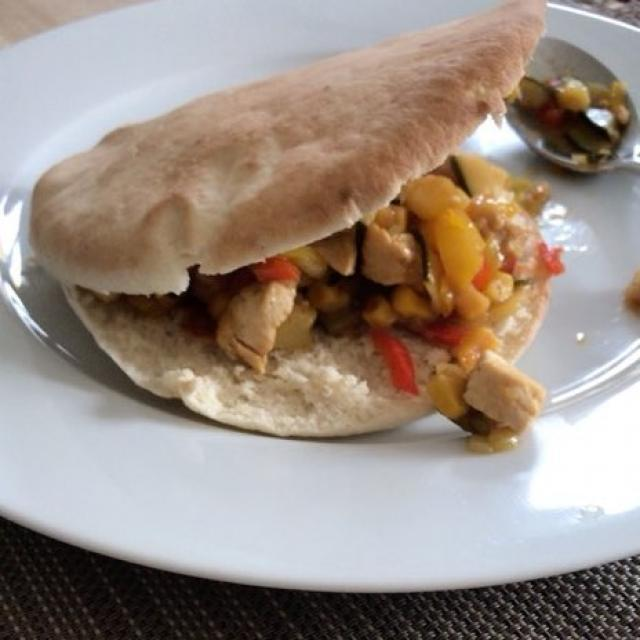chicken: (217, 232, 550, 433)
ratatouille: (289, 67, 625, 440)
sweet-corn-canned: (361, 296, 438, 328)
